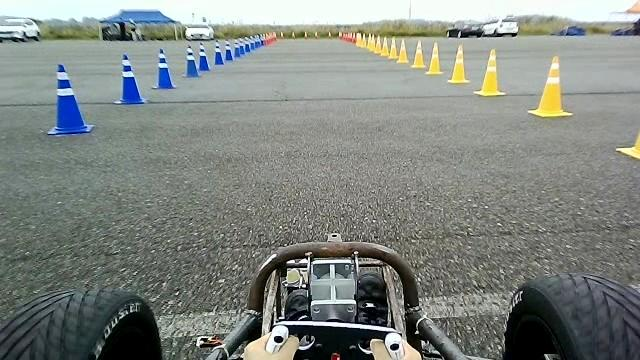blue cone: (46, 63, 94, 135), (112, 54, 144, 104), (150, 48, 176, 89), (182, 44, 202, 78), (198, 42, 210, 71), (213, 39, 225, 65), (224, 39, 233, 61)
yellow cone: (527, 55, 573, 117), (473, 48, 506, 96), (446, 44, 470, 83), (425, 41, 443, 74), (411, 39, 426, 68), (396, 38, 409, 63)
